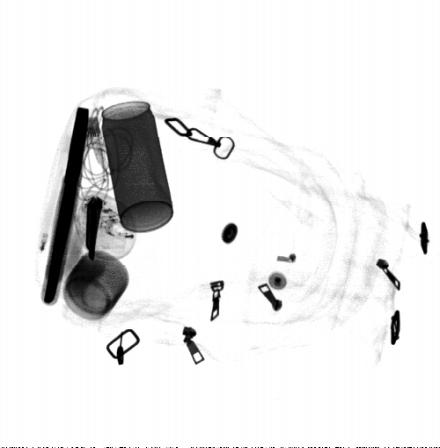Pliers: (40, 105, 91, 308)
